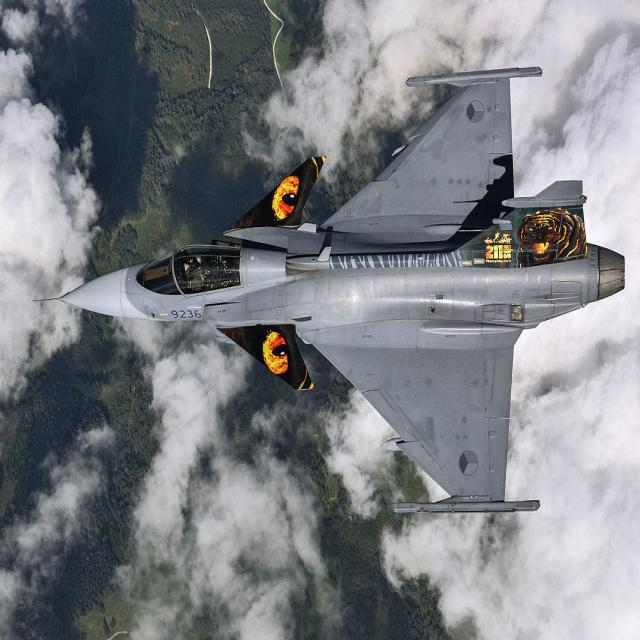MIL_Plane: (32, 66, 625, 513)
